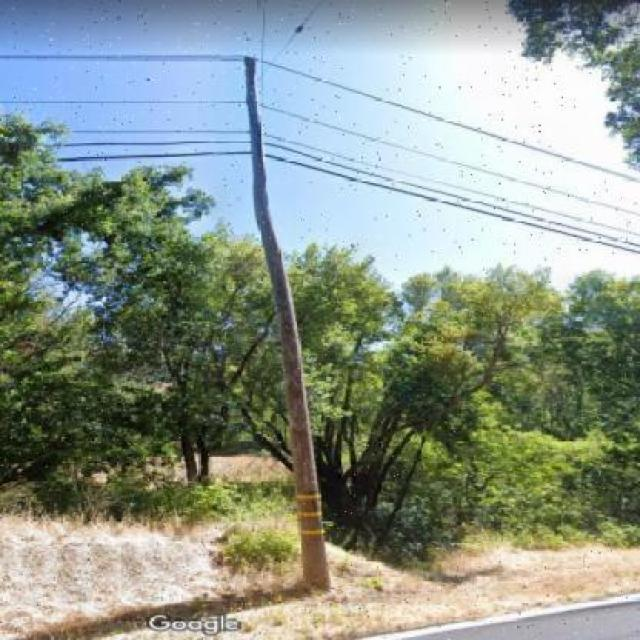pole: (121, 13, 407, 604)
